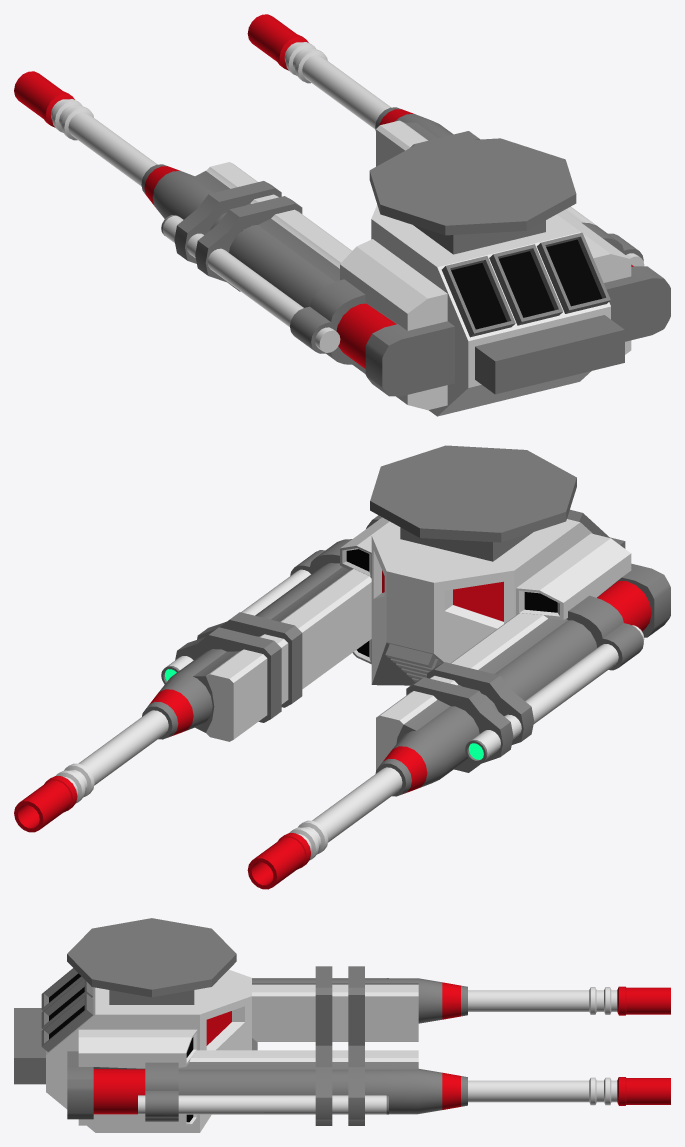
The model's file is 1_FlacCannon.fbx.
3 renders of one model, top to bottom at view 1: azimuth 30°, elevation 25°; view 2: azimuth 150°, elevation 25°; view 3: azimuth 270°, elevation 25°, orthographic. The views are drawn at different scales.
Visible parts, largest first — view 1: MainBox, MainMount, MainBody.002, MainBarrel.002, MainBody.001, TopChamber.002, FrontBarrel.002, FrontBarrel.001, MainBarrel.001, TopChamber.001; view 2: MainBox, MainMount, MainBarrel.002, MainBody.001, MainBody.002, MainBarrel.001, TopChamber.002, FrontBarrel.001, FrontBarrel.002, TopChamber.001; view 3: MainBox, MainBarrel.001, MainBody.001, MainMount, MainBody.002, TopChamber.001, MainBarrel.002, FrontBarrel.001, FrontBarrel.002.
Part boxes in pixels (box(x1,y1,x2,y2)): MainBox: box(371, 205, 624, 416); MainMount: box(369, 138, 576, 254); MainBody.002: box(193, 162, 454, 410); MainBarrel.002: box(141, 164, 396, 368); MainBody.001: box(376, 120, 670, 354); TopChamber.002: box(161, 215, 365, 364); FrontBarrel.002: box(14, 71, 157, 186); FrontBarrel.001: box(247, 14, 390, 129); MainBarrel.001: box(375, 107, 633, 266); TopChamber.001: box(564, 206, 644, 266); MainBox: box(371, 509, 625, 685); MainMount: box(370, 445, 576, 561); MainBarrel.002: box(375, 581, 651, 796); MainBody.001: box(193, 515, 390, 741); MainBody.002: box(376, 533, 670, 770); MainBarrel.001: box(142, 563, 342, 739); TopChamber.002: box(465, 595, 644, 763); FrontBarrel.001: box(14, 710, 168, 832); FrontBarrel.002: box(247, 767, 402, 889); TopChamber.001: box(161, 539, 352, 684); MainBox: box(14, 968, 257, 1132); MainBarrel.001: box(93, 1045, 467, 1125); MainBody.001: box(67, 1029, 418, 1125); MainMount: box(67, 918, 236, 1004); MainBody.002: box(252, 983, 418, 1041); TopChamber.001: box(138, 1062, 388, 1121); MainBarrel.002: box(252, 966, 467, 1045); FrontBarrel.001: box(468, 1077, 670, 1105); FrontBarrel.002: box(468, 986, 670, 1015).
Bounding box in the file's own units: 359 × 203 × 775.
